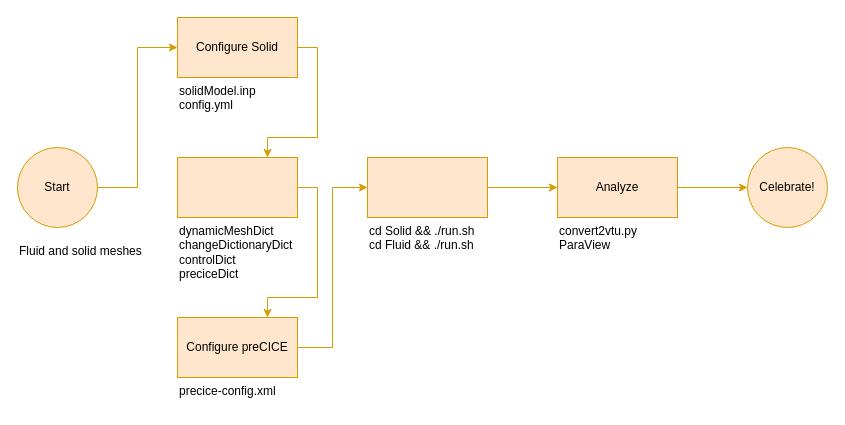
Image size: 845x425. Some labels were removed from this diagram. The shapes that lost their labels are listed below. From the top down, each one's box as (x1, y1, x2, y2) in pixels, then its label:
(176, 156, 298, 218): Configure Fluid
(366, 156, 488, 218): Run
